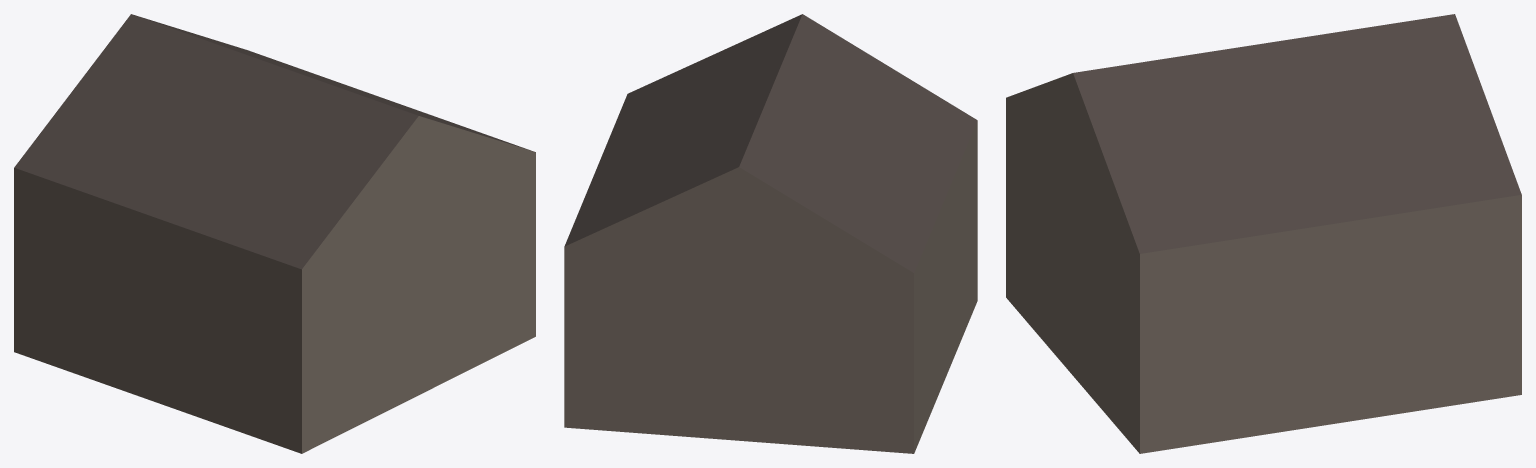
The picture shows the model from 3 angles, left to right: view 1: azimuth 30°, elevation 25°; view 2: azimuth 150°, elevation 25°; view 3: azimuth 270°, elevation 25°; orthographic projection. The views are drawn at different scales.
Visible parts, largest first — view 1: HP-w1319816430; view 2: HP-w1319816430; view 3: HP-w1319816430.
Part boxes in pixels (x1,y1,x2,y2): HP-w1319816430: [14, 14, 535, 453]; HP-w1319816430: [564, 14, 977, 453]; HP-w1319816430: [1006, 14, 1521, 453].
Bounding box in the file's own units: 13.85 × 9.09 × 14.03.
